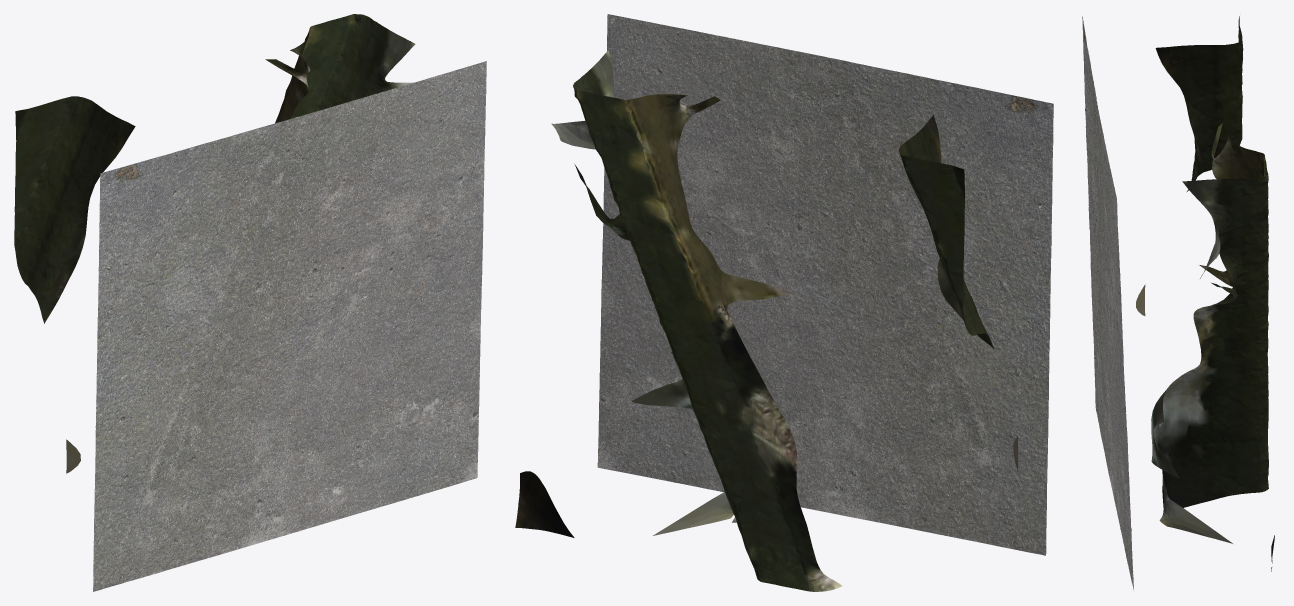
Rendered from Tile_+007_+010.obj.
The picture shows the model from 3 angles, left to right: view 1: azimuth 30°, elevation 25°; view 2: azimuth 150°, elevation 25°; view 3: azimuth 270°, elevation 25°; orthographic projection. The views are drawn at different scales.
Bounding box in the file's own units: 3.03 × 3.03 × 1.38.
Materials: 1 (1 with a texture image).
